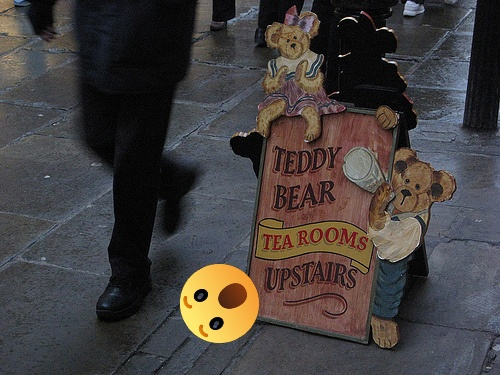wow: (180, 264, 259, 343)
